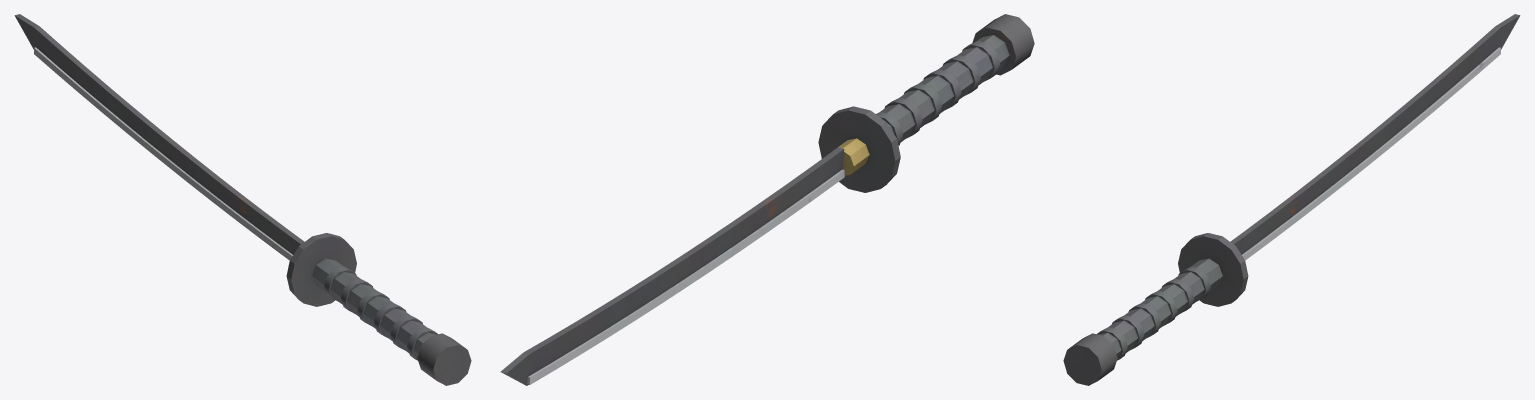
The model's file is AC_KatanaBallesta.fbx.
The picture shows the model from 3 angles, left to right: view 1: azimuth 30°, elevation 25°; view 2: azimuth 150°, elevation 25°; view 3: azimuth 330°, elevation 25°; orthographic projection. The views are drawn at different scales.
Visible parts, largest first — view 1: AC_KatanaBallesta; view 2: AC_KatanaBallesta; view 3: AC_KatanaBallesta.
Boxes of the visible parts, <box> form: AC_KatanaBallesta: <box>14,14,471,385</box>; AC_KatanaBallesta: <box>500,14,1034,385</box>; AC_KatanaBallesta: <box>1063,14,1520,385</box>.
Size of the model in its own units: 0.0698 by 0.8 by 0.0689.
